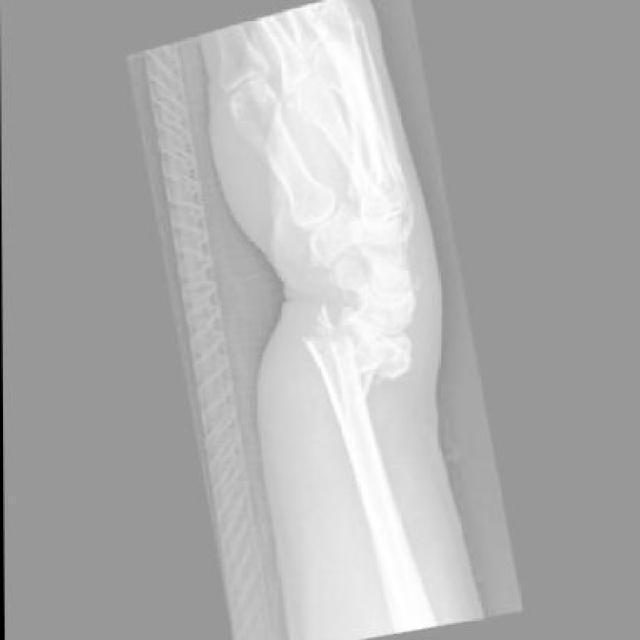Fracture: (293, 284, 426, 424), (393, 269, 430, 308)
